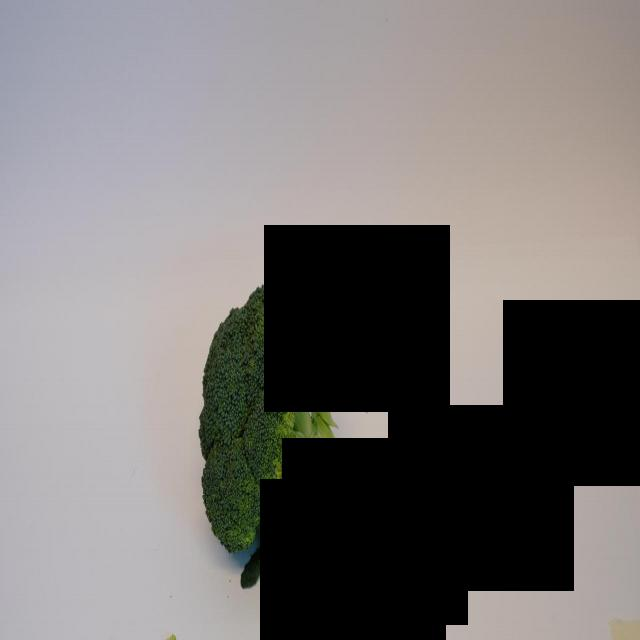broccoli: (197, 278, 361, 560)
